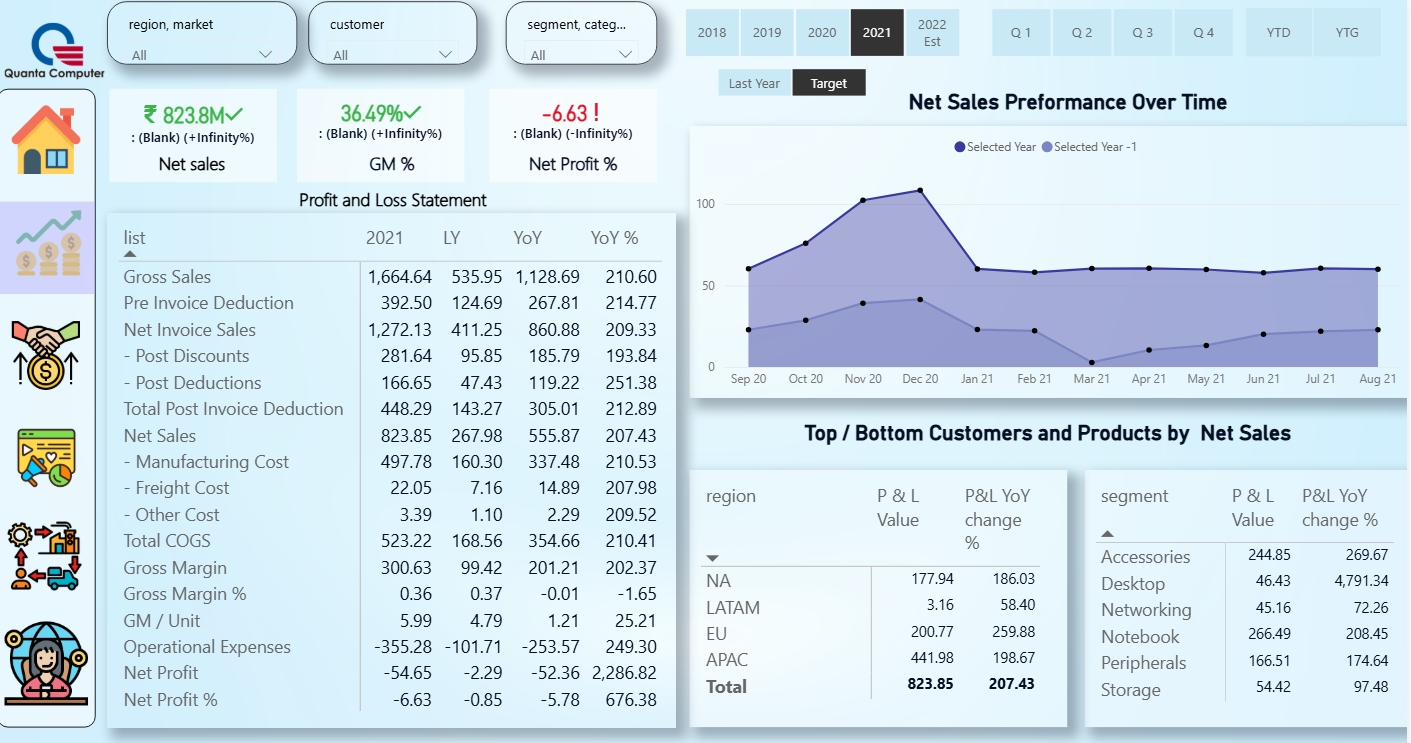

This screenshot's page, from the dashboard's own definition file:
{"tool":"powerbi","page":{"name":"Finance View","canvas":[1280,720],"ordinal":1},"visuals":[{"type":"pivotTable","fields":{"Rows":["P&L Rows.list"],"Columns":["P & L column header.column header"],"Values":["key Measure.Final P & L Value"]},"box":[99.7,193.2,516.9,467.7],"z":0},{"type":"slicer","fields":{"Values":["Fiscal_year.Est Fy"]},"box":[599.6,1.2,298,56.7],"z":1000},{"type":"slicer","fields":{"Values":["dim_date.Quater"]},"box":[877.1,1.2,269,56.7],"z":2000},{"type":"slicer","fields":{"Values":["dim_date.ytd_ytg"]},"box":[1107.5,0,172.5,57.9],"z":3000},{"type":"areaChart","fields":{"Category":["dim_date.date"],"Y":["key Measure.P & L Value","key Measure.P&L Last Year"]},"box":[628.9,114.5,651.1,246.2],"z":4000},{"type":"pivotTable","fields":{"Rows":["dim_product.segment","dim_product.category","dim_product.product"],"Values":["key Measure.P & L Value","key Measure.P&L YoY change %"]},"box":[987.1,427.1,292.9,233.8],"z":5000},{"type":"pivotTable","fields":{"Rows":["dim_market.region","dim_market.market","dim_customer.customer"],"Values":["key Measure.P & L Value","key Measure.P&L YoY change %"]},"box":[628.9,427.1,343.4,233.8],"z":6000},{"type":"card","fields":{"Values":["key Measure.Selected P&L Row"]},"box":[723.7,67.7,497.2,49.2],"z":7000},{"type":"card","fields":{"Values":["key Measure.Top and bottom"]},"box":[628.8,371.1,651.3,44],"z":8000},{"type":"textbox","box":[100.9,164.9,516.9,40.6],"z":9000},{"type":"slicer","fields":{"Values":["dim_market.region","dim_customer.market"]},"box":[100.1,1.2,172.5,57.9],"z":10000},{"type":"slicer","fields":{"Values":["dim_product.segment","dim_product.category","dim_product.product"]},"box":[462.1,1.2,137.5,57.9],"z":11000},{"type":"slicer","fields":{"Values":["dim_customer.customer"]},"box":[282.3,1.2,153.2,57.9],"z":12000},{"type":"kpi","fields":{"Indicator":["key Measure.Net Sales Amount"],"TrendLine":["dim_date.Fiscal"],"Goal":["key Measure.Switch Net Sales"]},"box":[101.6,80.8,151.8,84.5],"z":13000},{"type":"textbox","box":[101.3,131.5,152,31.4],"z":14000},{"type":"kpi","fields":{"TrendLine":["dim_date.Fiscal"],"Indicator":["key Measure.gross margin %"],"Goal":["key Measure.Switch GM %"]},"box":[272.7,80.8,152,84.5],"z":15000},{"type":"kpi","fields":{"TrendLine":["dim_date.Fiscal"],"Indicator":["key Measure.Net Profit %"],"Goal":["key Measure.Switch NP Target %"]},"box":[447.6,80.8,152,84.5],"z":16000},{"type":"textbox","box":[282.3,131.5,152,32.6],"z":17000},{"type":"textbox","box":[447.6,131.5,152,32.6],"z":18000},{"type":"image","box":[2.4,0,100.1,92.9],"z":19000},{"type":"shape","box":[0,80.8,89.3,580.3],"z":20000},{"type":"image","box":[1.2,285.9,86.9,73.6],"z":21000},{"type":"image","box":[4.8,185.8,84.5,68.8],"z":22000},{"type":"image","box":[4.8,90.5,79.6,72.4],"z":23000},{"type":"image","box":[4.8,380,80.8,71.2],"z":24000},{"type":"image","box":[0,466.9,86.9,77.2],"z":25000},{"type":"shape","box":[1.2,182.2,88.1,84.5],"z":26000},{"type":"image","box":[0,558.6,89.3,88.1],"z":27000},{"type":"slicer","fields":{"Values":["Toggle Table.Option"]},"box":[629.1,55.1,183.6,36.7],"z":28000}]}

Visuals, with their boxes on the page's 1280x720 design canvas (x1, y1, x2, y2). These are canvas units, not pixel positions in the 1411x743 screenshot, which may show the page scaled, cropped or inside an application window:
pivotTable - P&L Rows.list x P & L column header.column header: x1=100 y1=193 x2=617 y2=661
slicer - Fiscal_year.Est Fy: x1=600 y1=1 x2=898 y2=58
slicer - dim_date.Quater: x1=877 y1=1 x2=1146 y2=58
slicer - dim_date.ytd_ytg: x1=1108 y1=0 x2=1280 y2=58
areaChart - dim_date.date x key Measure.P & L Value: x1=629 y1=114 x2=1280 y2=361
pivotTable - dim_product.segment x dim_product.category: x1=987 y1=427 x2=1280 y2=661
pivotTable - dim_market.region x dim_market.market: x1=629 y1=427 x2=972 y2=661
card - key Measure.Selected P&L Row: x1=724 y1=68 x2=1221 y2=117
card - key Measure.Top and bottom: x1=629 y1=371 x2=1280 y2=415
textbox: x1=101 y1=165 x2=618 y2=206
slicer - dim_market.region x dim_customer.market: x1=100 y1=1 x2=273 y2=59
slicer - dim_product.segment x dim_product.category: x1=462 y1=1 x2=600 y2=59
slicer - dim_customer.customer: x1=282 y1=1 x2=436 y2=59
kpi - key Measure.Net Sales Amount x dim_date.Fiscal: x1=102 y1=81 x2=253 y2=165
textbox: x1=101 y1=132 x2=253 y2=163
kpi - dim_date.Fiscal x key Measure.gross margin %: x1=273 y1=81 x2=425 y2=165
kpi - dim_date.Fiscal x key Measure.Net Profit %: x1=448 y1=81 x2=600 y2=165
textbox: x1=282 y1=132 x2=434 y2=164
textbox: x1=448 y1=132 x2=600 y2=164
image: x1=2 y1=0 x2=102 y2=93
shape: x1=0 y1=81 x2=89 y2=661
image: x1=1 y1=286 x2=88 y2=360
image: x1=5 y1=186 x2=89 y2=255
image: x1=5 y1=90 x2=84 y2=163
image: x1=5 y1=380 x2=86 y2=451
image: x1=0 y1=467 x2=87 y2=544
shape: x1=1 y1=182 x2=89 y2=267
image: x1=0 y1=559 x2=89 y2=647
slicer - Toggle Table.Option: x1=629 y1=55 x2=813 y2=92
